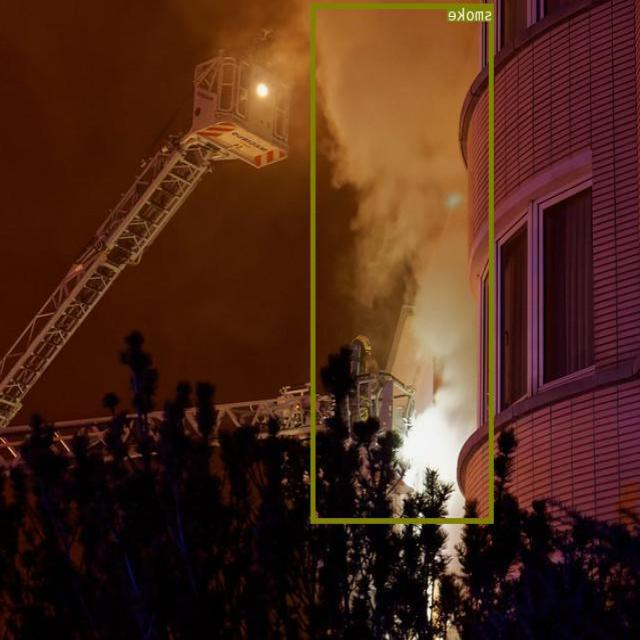smoke: (312, 2, 494, 522)
